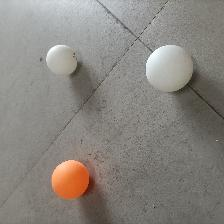WhiteBall: (143, 44, 193, 92), (45, 44, 78, 75)
YellowBall: (49, 158, 91, 199)
